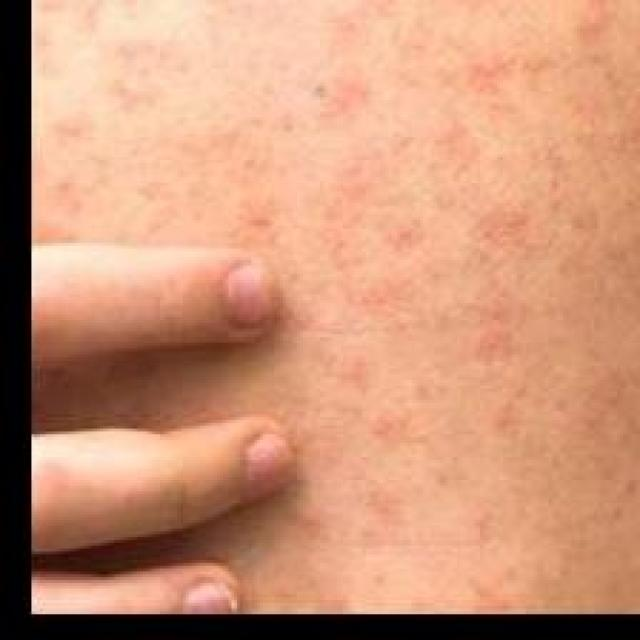others: (31, 4, 640, 618)
